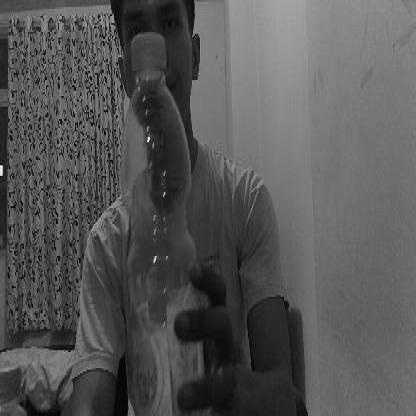plastic_bottles: (119, 35, 191, 416)
